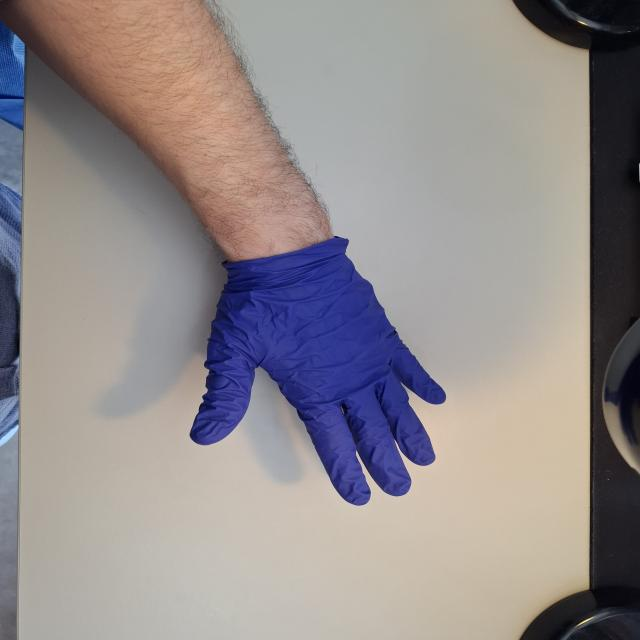glove_on: (186, 242, 448, 508)
